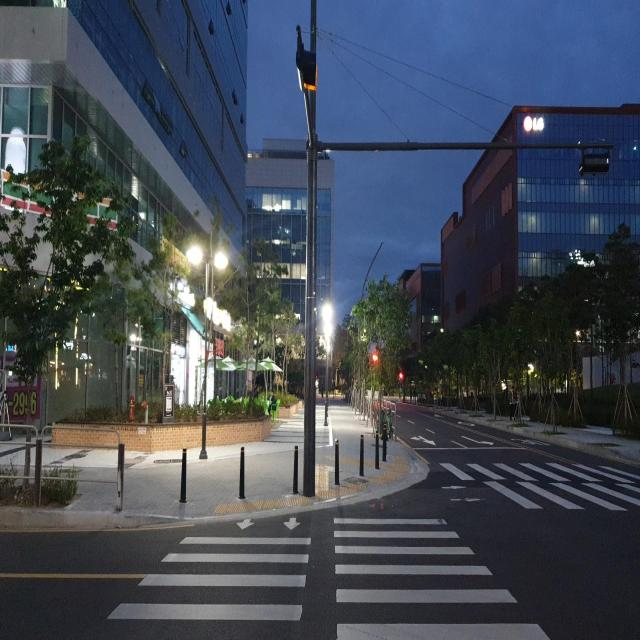횡단보도: (108, 513, 554, 640), (435, 465, 640, 512)
